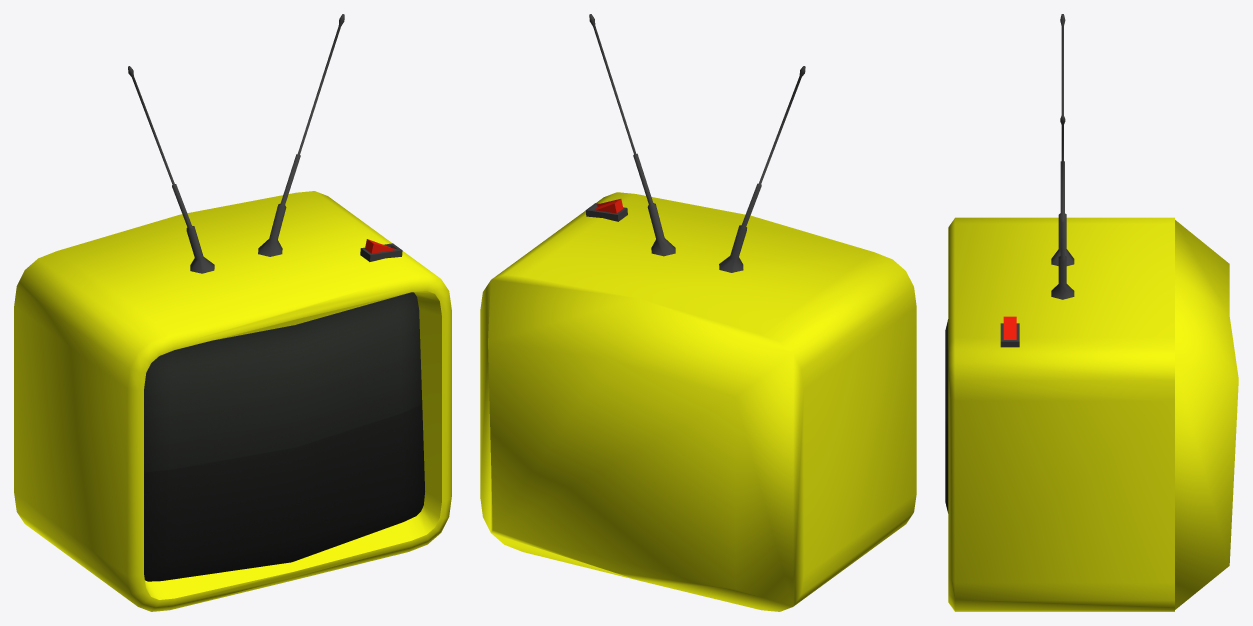
3 views of the same model, side by side, from view 1: azimuth 30°, elevation 25°; view 2: azimuth 150°, elevation 25°; view 3: azimuth 270°, elevation 25° (orthographic). The views are drawn at different scales.
Visible parts, largest first — view 1: Tv; view 2: Tv; view 3: Tv.
Part boxes in pixels (x1,y1,x2,y2): Tv: (14, 14, 451, 611); Tv: (480, 14, 916, 611); Tv: (945, 14, 1238, 611).
Size of the model in its own units: 125 by 184 by 101.
